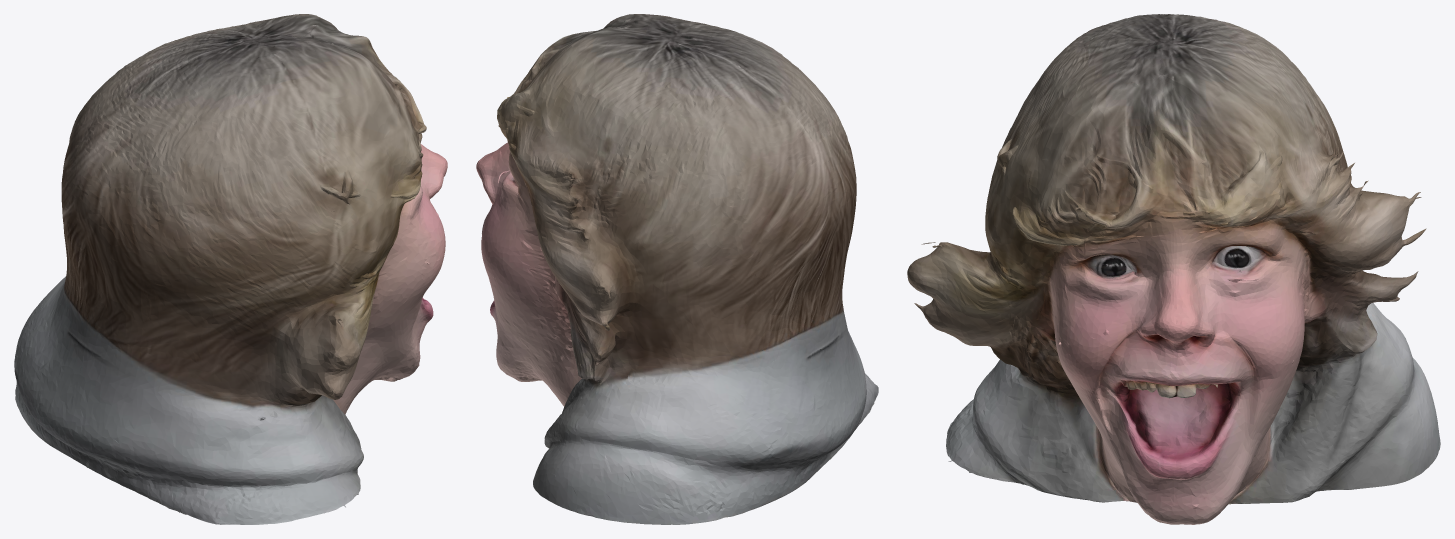
The model's file is 67-kid-six-seven-head.fbx.
3 views of the same model, side by side, from view 1: azimuth 30°, elevation 25°; view 2: azimuth 150°, elevation 25°; view 3: azimuth 270°, elevation 25° (orthographic). The views are drawn at different scales.
Parts seen in each view (by area): view 1: obj1; view 2: obj1; view 3: obj1.
Part boxes in pixels (box(x1,y1,x2,y2)): obj1: box(14, 14, 447, 524); obj1: box(476, 14, 878, 524); obj1: box(907, 14, 1440, 524).
Size of the model in its own units: 90.37 by 88.05 by 99.98.
1 material, 1 textured.
